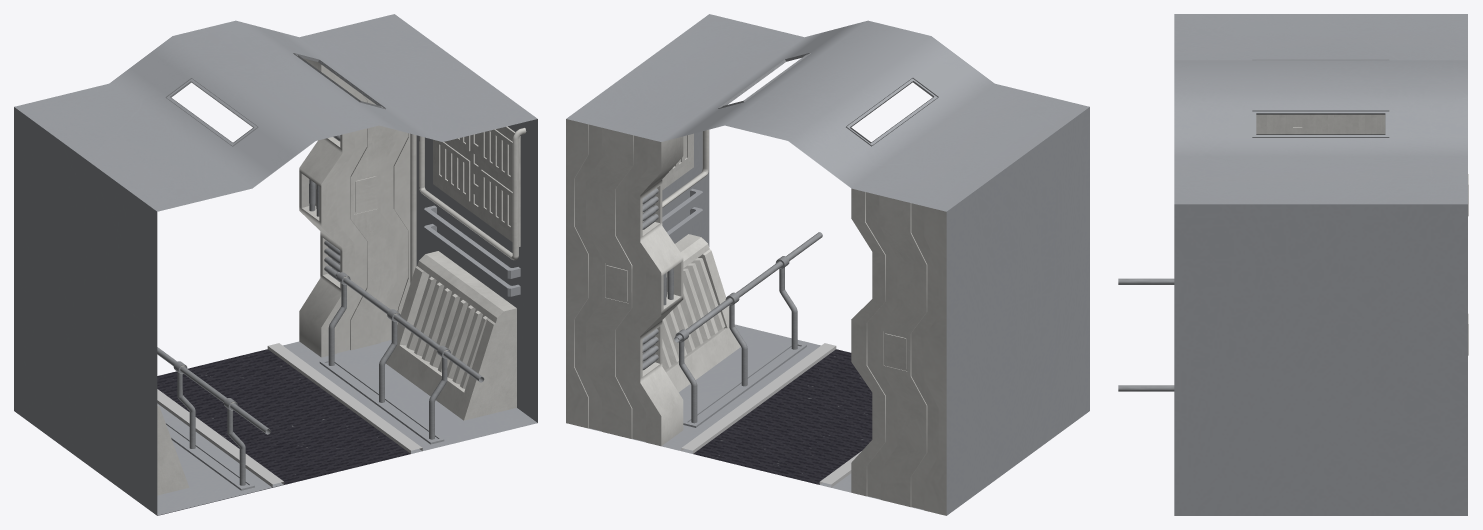
Rendered from straightTunnel.fbx.
3 renders of one model, left to right at view 1: azimuth 30°, elevation 25°; view 2: azimuth 150°, elevation 25°; view 3: azimuth 270°, elevation 25°, orthographic. The views are drawn at different scales.
Visible parts, largest first — view 1: straightTunnel; view 2: straightTunnel; view 3: straightTunnel.
Boxes of the visible parts, left/top/right/bottom form: straightTunnel: left=14, top=14, right=537, bottom=515; straightTunnel: left=566, top=14, right=1089, bottom=515; straightTunnel: left=1118, top=14, right=1468, bottom=515.
Size of the model in its own units: 4 by 3.38 by 3.11.
